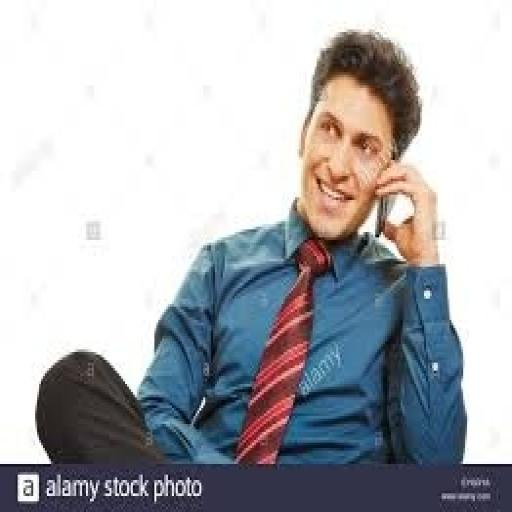calling: (33, 24, 469, 467)
